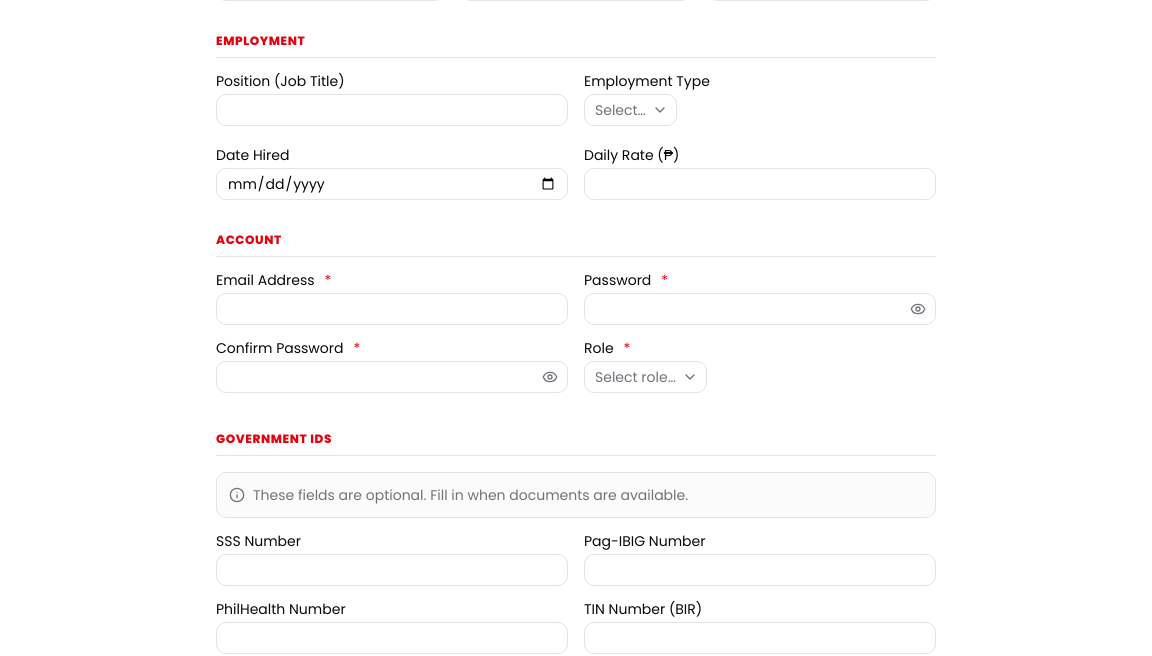
Test: CreateUserPage › shows password minimum length error
(page scrolled)
// Find password input by placeholder or by position among password-type inputs
Type "weak" into the 1st password field at (760, 309), box [584,293,936,325]
(page scrolled)
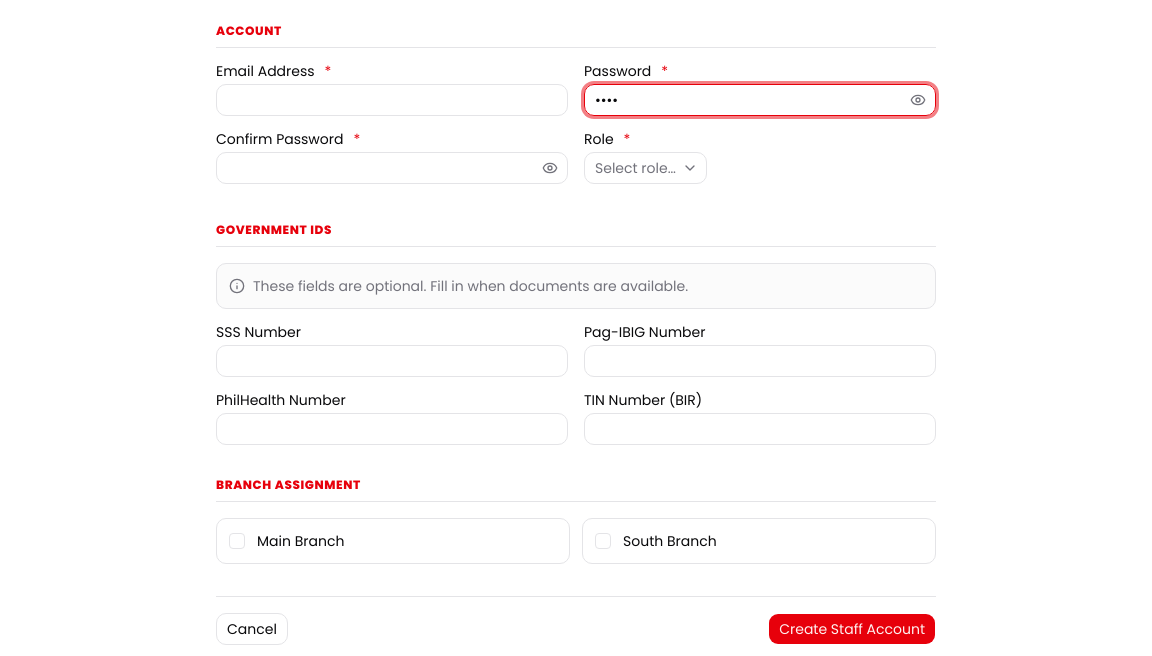
Click the button "Create Staff Account" at (852, 629), box [768,613,936,645]
(page scrolled)
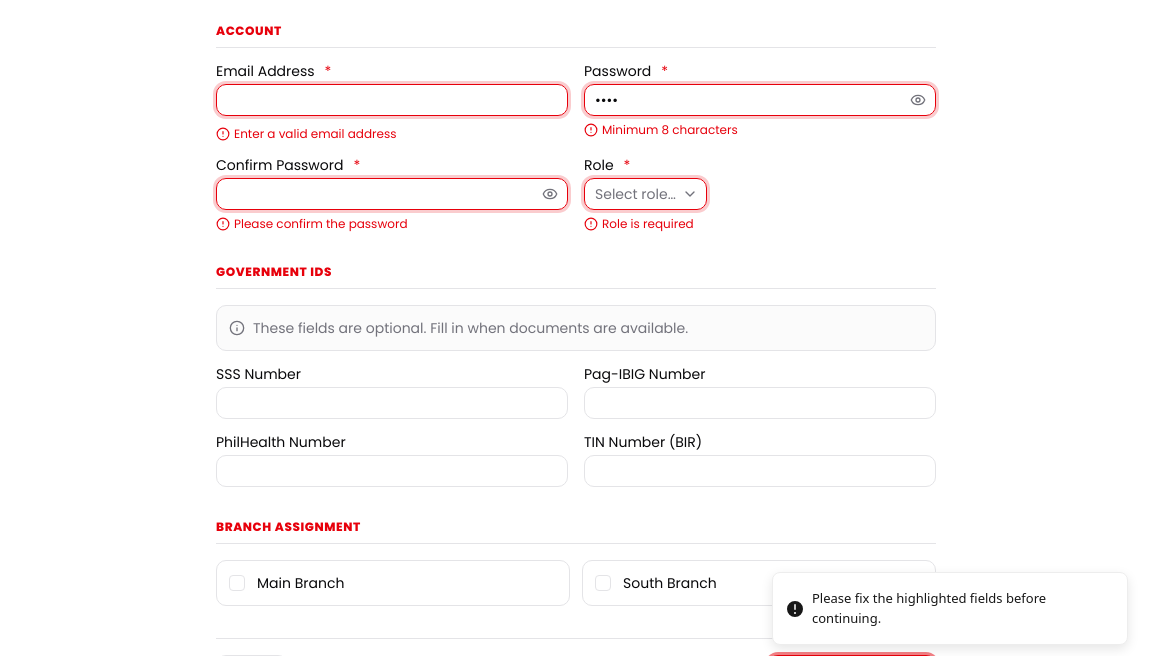
Check: the text "Minimum 8 characters" is shown, box [584,121,738,138]
